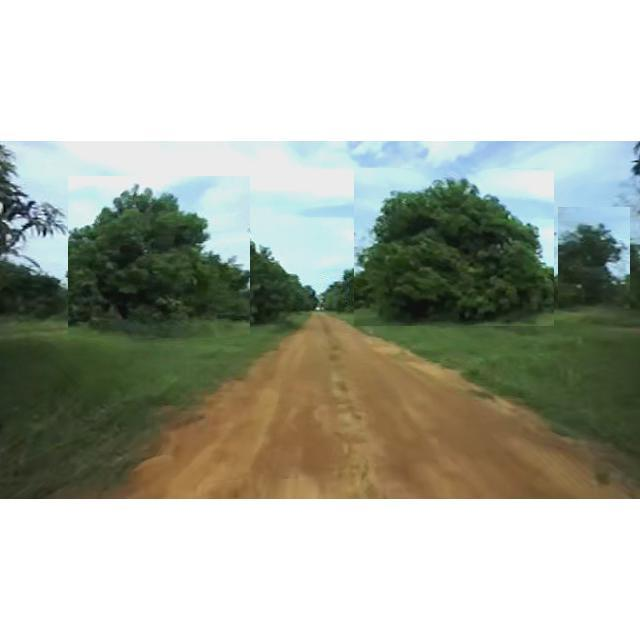direk: (354, 168, 554, 326), (68, 176, 250, 338), (558, 207, 630, 309), (216, 240, 300, 326), (336, 263, 382, 317), (321, 278, 347, 312), (300, 282, 320, 312)
